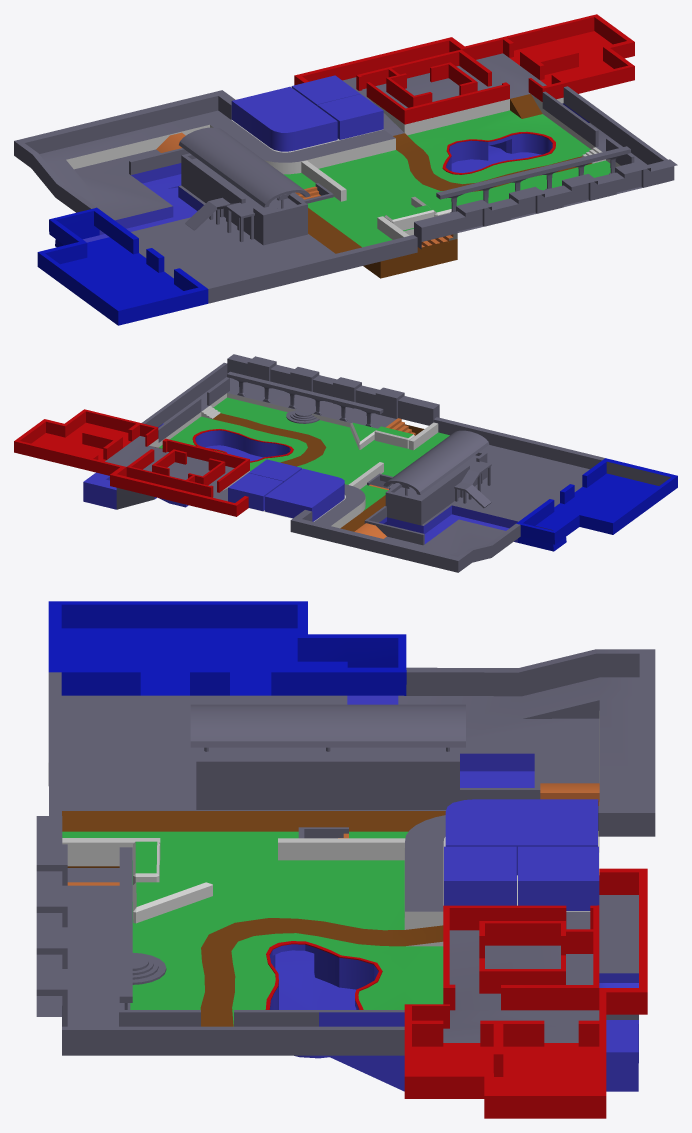
Rendered from ステージ1.fbx.
3 views of the same model, one above another, from view 1: azimuth 30°, elevation 25°; view 2: azimuth 150°, elevation 25°; view 3: azimuth 270°, elevation 25° (orthographic). The views are drawn at different scales.
Parts seen in each view (by area): view 1: TIKEI, 高台, obj1, obj2, KABE, obj4, 階段; view 2: TIKEI, obj1, 高台, obj2, KABE, obj4, 階段; view 3: TIKEI, 高台, obj2, KABE, obj1, obj4, 階段.
Part boxes in pixels (x1,y1,x2,y2): TIKEI: (14,14,674,325); 高台: (179,127,310,245); obj1: (414,146,677,249); obj2: (231,75,383,151); KABE: (356,49,509,124); obj4: (384,196,463,230); 階段: (156,132,605,248); TIKEI: (14,362,677,572); obj1: (227,354,439,427); 高台: (383,430,491,525); obj2: (228,459,344,521); KABE: (126,438,249,497); obj4: (350,422,414,449); 階段: (201,406,415,538); TIKEI: (48,601,655,1118); 高台: (190,704,465,809); obj2: (444,799,599,910); KABE: (443,905,599,1010); obj1: (36,816,166,1026); obj4: (132,841,212,923); 階段: (67,783,599,885).
Bounding box in the file's own units: 13270 × 1596 × 6778.
